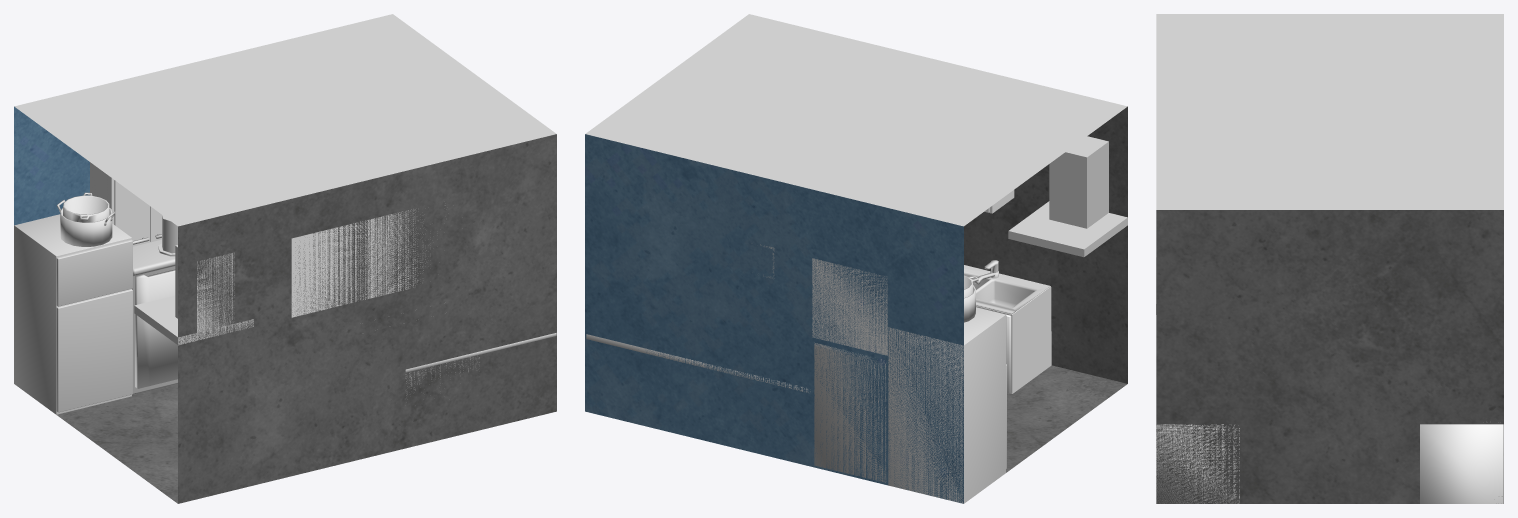
Rendered from Cuisine.fbx.
3 renders of one model, left to right at view 1: azimuth 30°, elevation 25°; view 2: azimuth 150°, elevation 25°; view 3: azimuth 270°, elevation 25°, orthographic. The views are drawn at different scales.
Visible parts, largest first — view 1: Cuisine, Frigo 02, Cupboard 04, Yes, Door.002, Cupboard 03, Frigo 02.001, Door Left, Cylinder.026, Cylinder.027, Cupboard 01; view 2: Cuisine, Frigo 02, Frigo 02.001, Yes, Cupboard 01, Cube.047, Sink, Plate.001; view 3: Cuisine, Cube.058, Cube.049.
Part boxes in pixels (<box>): Cuisine: <box>14,14,556,503</box>; Frigo 02: <box>14,214,132,414</box>; Cupboard 04: <box>291,220,367,317</box>; Yes: <box>134,245,253,345</box>; Door.002: <box>135,269,177,388</box>; Cupboard 03: <box>367,209,426,298</box>; Frigo 02.001: <box>132,239,177,394</box>; Door Left: <box>114,180,150,246</box>; Cylinder.026: <box>56,200,115,246</box>; Cylinder.027: <box>63,192,109,222</box>; Cupboard 01: <box>90,162,152,245</box>; Cuisine: <box>585,14,1127,503</box>; Frigo 02: <box>888,307,1006,503</box>; Frigo 02.001: <box>814,342,886,482</box>; Yes: <box>1008,136,1127,257</box>; Cupboard 01: <box>812,258,887,355</box>; Cube.047: <box>976,286,1051,393</box>; Sink: <box>964,265,1049,314</box>; Plate.001: <box>586,334,810,392</box>; Cuisine: <box>1156,14,1503,503</box>; Cube.058: <box>1420,424,1503,503</box>; Cube.049: <box>1156,424,1239,503</box>.
Size of the model in its own units: 10 by 7 by 7.5.
